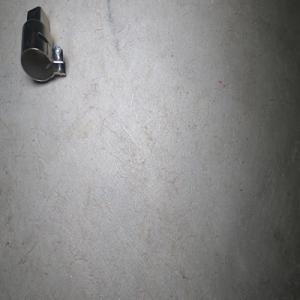MetalPart: (19, 5, 66, 82)
